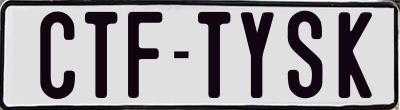C: (37, 8, 77, 96)
F: (127, 11, 167, 102)
K: (339, 11, 373, 102)
S: (288, 9, 323, 99)
T: (195, 11, 232, 102), (82, 9, 114, 99)
Y: (241, 12, 274, 100)
